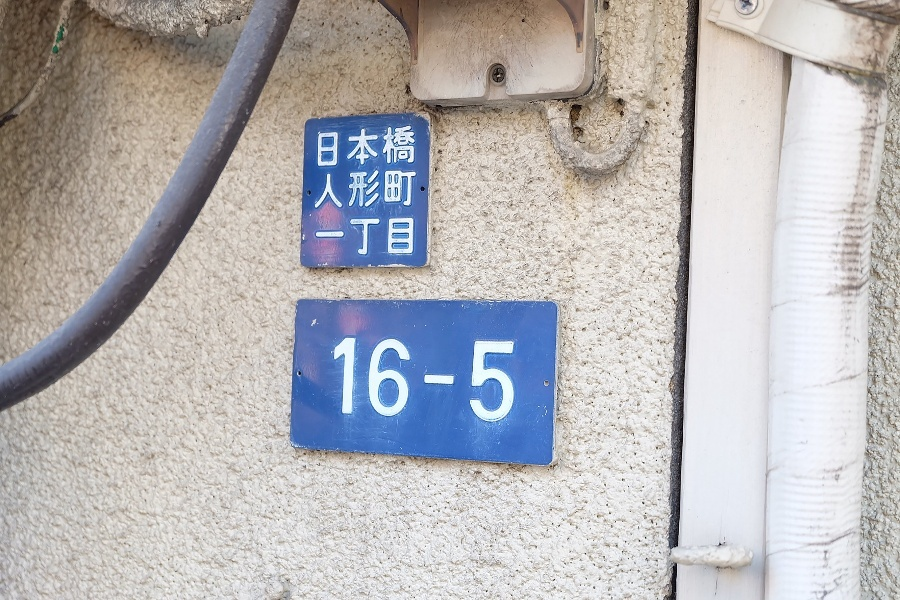text: (337, 334, 352, 425), (353, 334, 368, 425), (369, 334, 384, 425), (385, 334, 400, 425), (401, 334, 416, 425), (417, 334, 432, 425), (433, 334, 448, 425), (449, 334, 464, 425), (465, 334, 480, 425), (481, 334, 496, 425), (497, 334, 512, 425), (321, 124, 336, 169), (337, 124, 352, 169), (353, 124, 368, 169), (369, 124, 384, 169), (385, 124, 400, 169), (401, 124, 416, 169), (401, 168, 417, 210), (321, 168, 336, 210), (337, 168, 352, 210), (353, 168, 368, 210), (369, 168, 384, 210), (385, 168, 400, 210), (321, 217, 336, 257), (337, 217, 352, 257), (353, 217, 368, 257), (369, 217, 384, 257), (385, 217, 400, 257), (401, 217, 416, 257), (513, 334, 518, 425), (334, 334, 336, 425), (316, 168, 320, 210), (316, 217, 320, 257), (318, 124, 320, 169)
